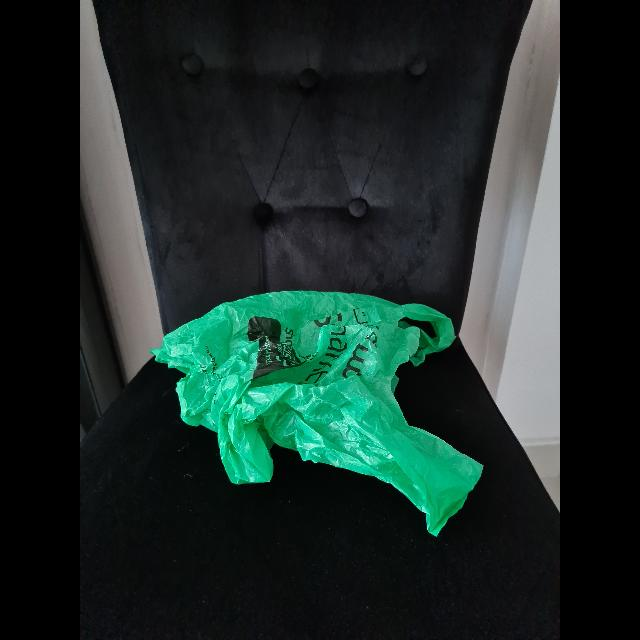plastic_bag: (148, 288, 488, 536)
